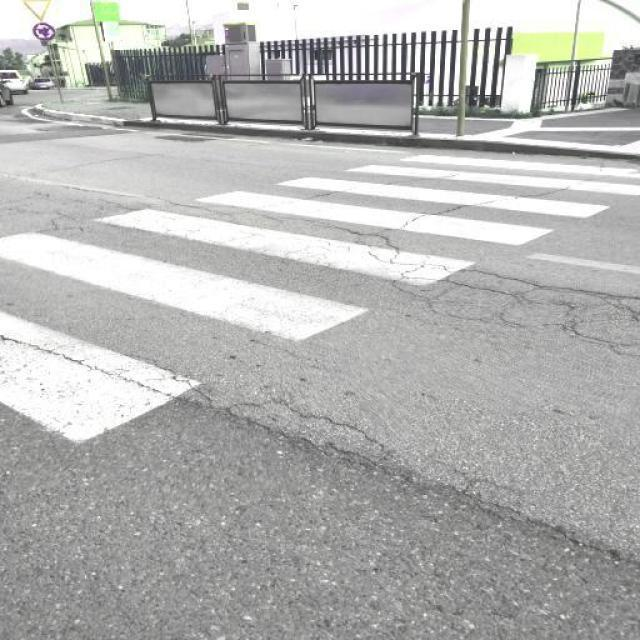crosswalk: (0, 151, 640, 448)
